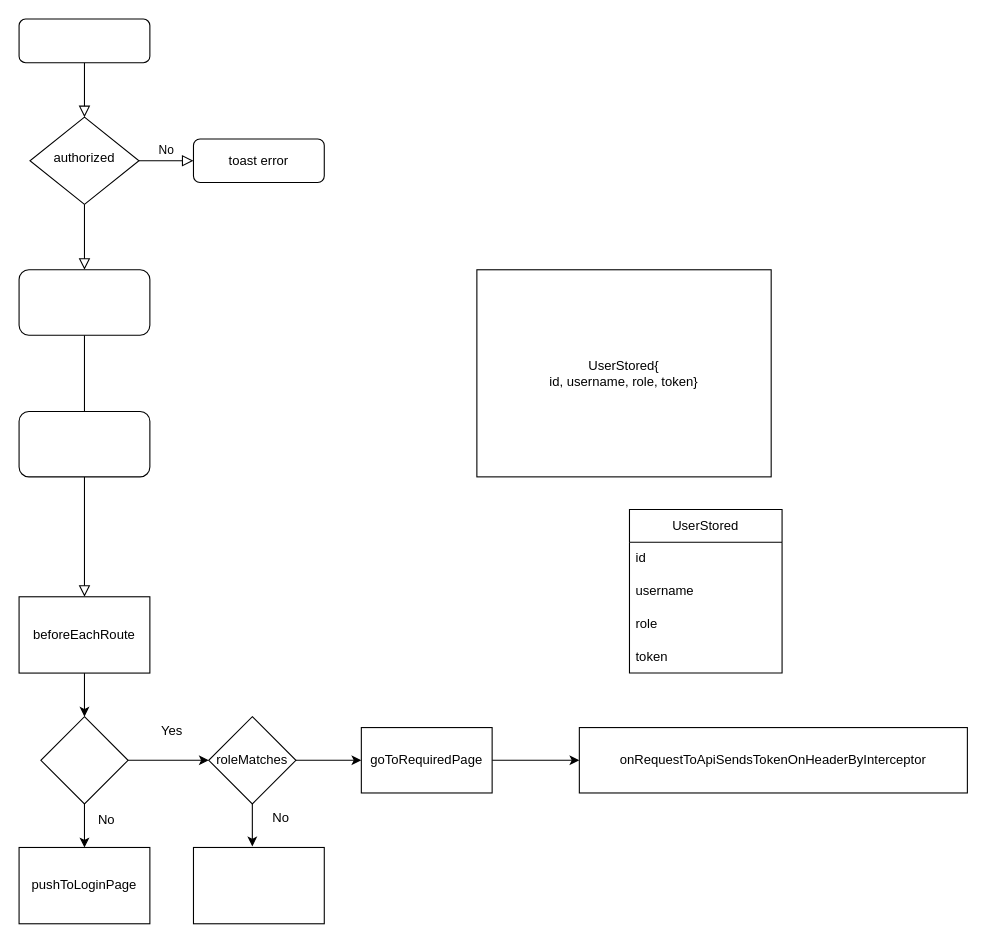
This 986x943 diagram has some shape labels left out. The centre of each missing label's shape, as x and y in pixels:
Authentication: the point at 84,40
isAuthorized: the point at 84,760
save user on storage: the point at 84,443
stayAtSamePage: the point at 258,885
toast success: the point at 84,302
